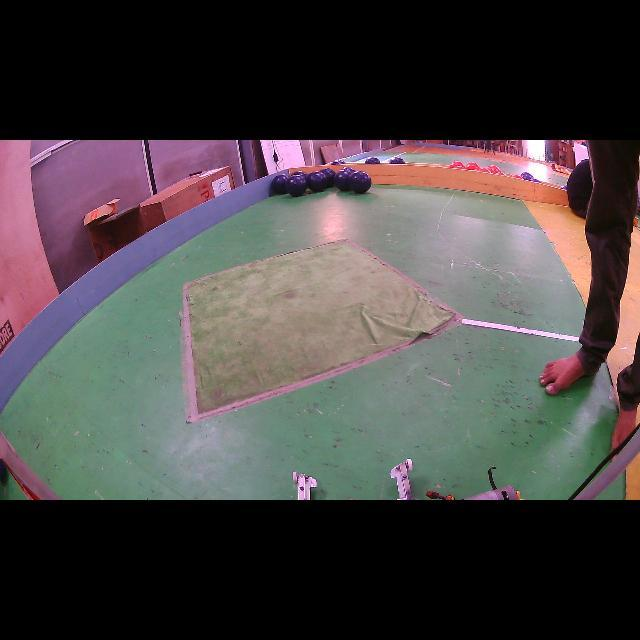B: (349, 171, 371, 194), (285, 175, 308, 197), (306, 171, 328, 192), (271, 175, 288, 194), (334, 171, 350, 191), (320, 168, 335, 187), (389, 156, 405, 164), (365, 156, 380, 164), (291, 170, 308, 177), (342, 168, 356, 174), (331, 159, 345, 165)
P: (521, 171, 534, 180), (530, 178, 541, 182)
R: (486, 165, 501, 174), (465, 162, 481, 170), (450, 161, 465, 169), (510, 174, 522, 179), (496, 171, 506, 176), (479, 168, 490, 172)
